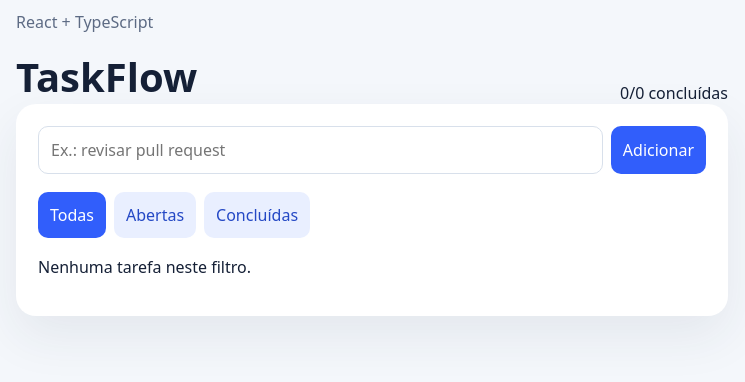
Test: TaskFlow interface › creates a task and updates the progress summary
Type "Revisar portfólio" into the field named "Nova tarefa".
click(320, 150); type("Revisar portfólio")  # box x1=38 y1=126 x2=603 y2=174
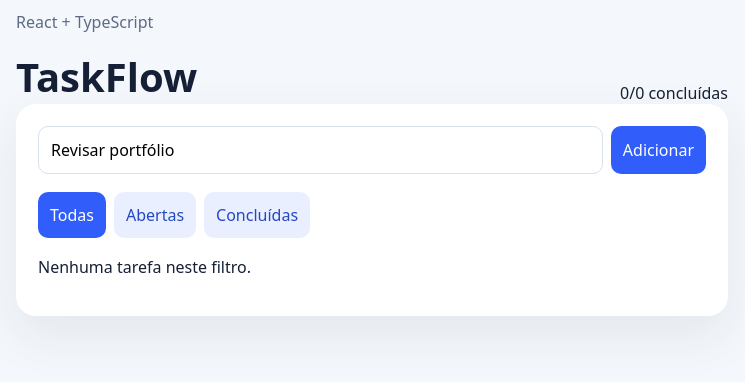
Click the button "Adicionar".
click(658, 150)  # box x1=611 y1=126 x2=706 y2=174
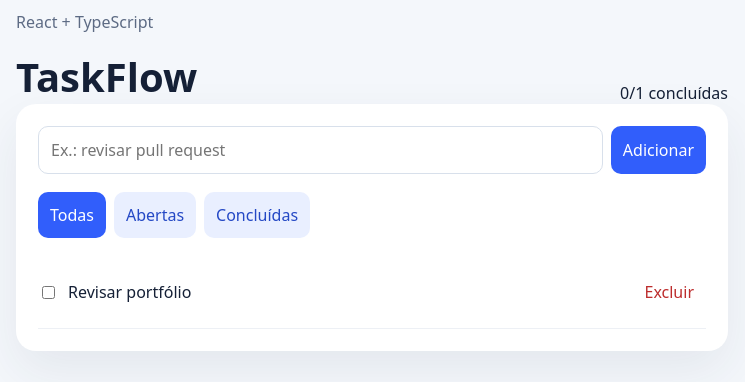
Expected: the text "Revisar portfólio" is shown, x1=68 y1=281 x2=191 y2=303
Expected: the text "0/1 concluídas" is shown, x1=620 y1=82 x2=728 y2=104
